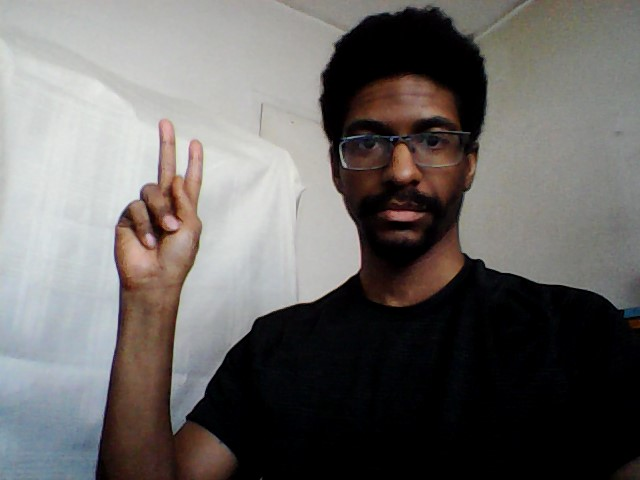k: (107, 114, 209, 298)
